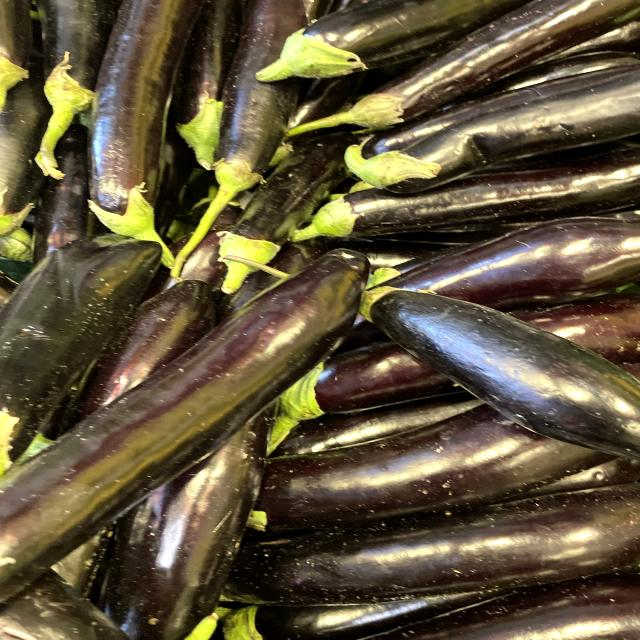eggplant: (340, 270, 640, 473), (161, 0, 324, 279)
